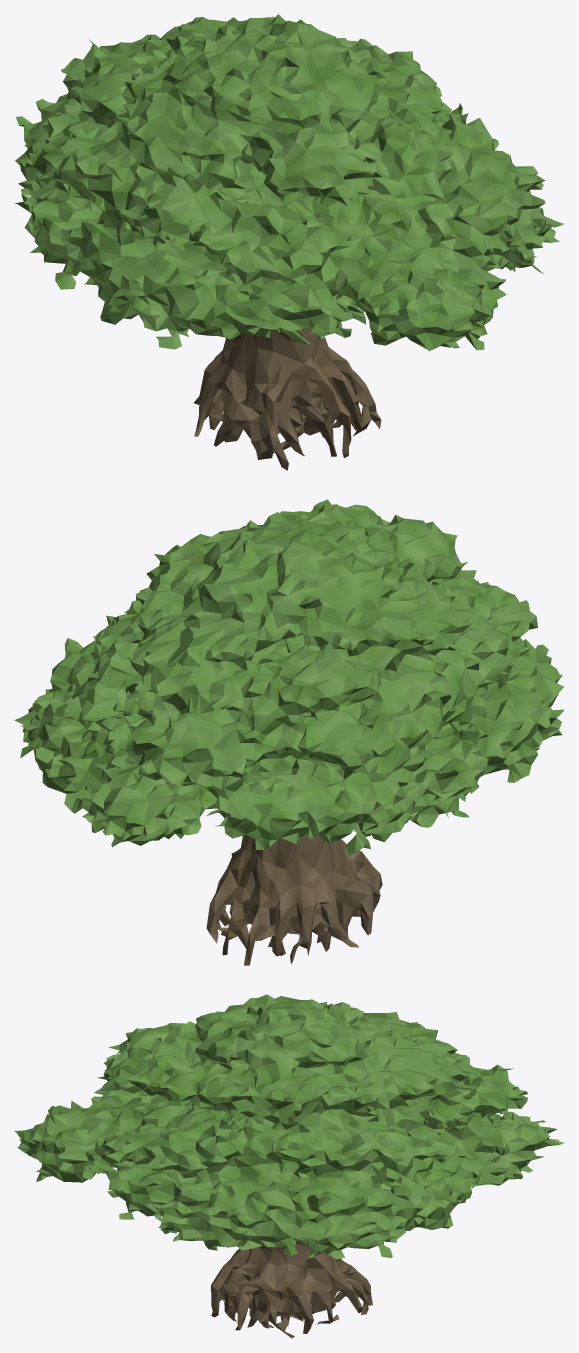
Rendered from mangrove_tree.glb.
3 views of the same model, one above another, from view 1: azimuth 30°, elevation 25°; view 2: azimuth 150°, elevation 25°; view 3: azimuth 270°, elevation 25° (orthographic). The views are drawn at different scales.
Parts seen in each view (by area): view 1: world; view 2: world; view 3: world.
Part boxes in pixels (box(x1,y1,x2,y2)): world: box(14, 14, 564, 470); world: box(14, 499, 564, 965); world: box(14, 994, 564, 1338).
Size of the model in its own units: 4.6 by 4 by 6.56.
